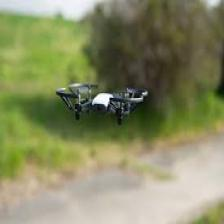drone: (56, 82, 148, 122)
